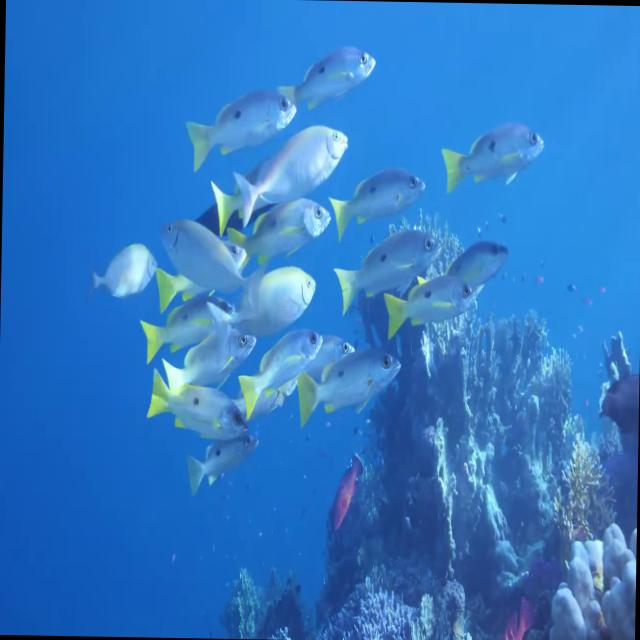fish: (236, 122, 350, 222), (187, 88, 297, 178), (156, 219, 255, 310), (145, 367, 249, 448), (296, 344, 401, 420), (442, 123, 546, 199), (226, 198, 328, 270), (338, 229, 436, 302), (280, 43, 376, 117), (326, 167, 424, 236), (144, 293, 242, 360), (242, 329, 322, 405), (383, 274, 478, 336), (236, 264, 318, 334), (88, 240, 156, 296)
